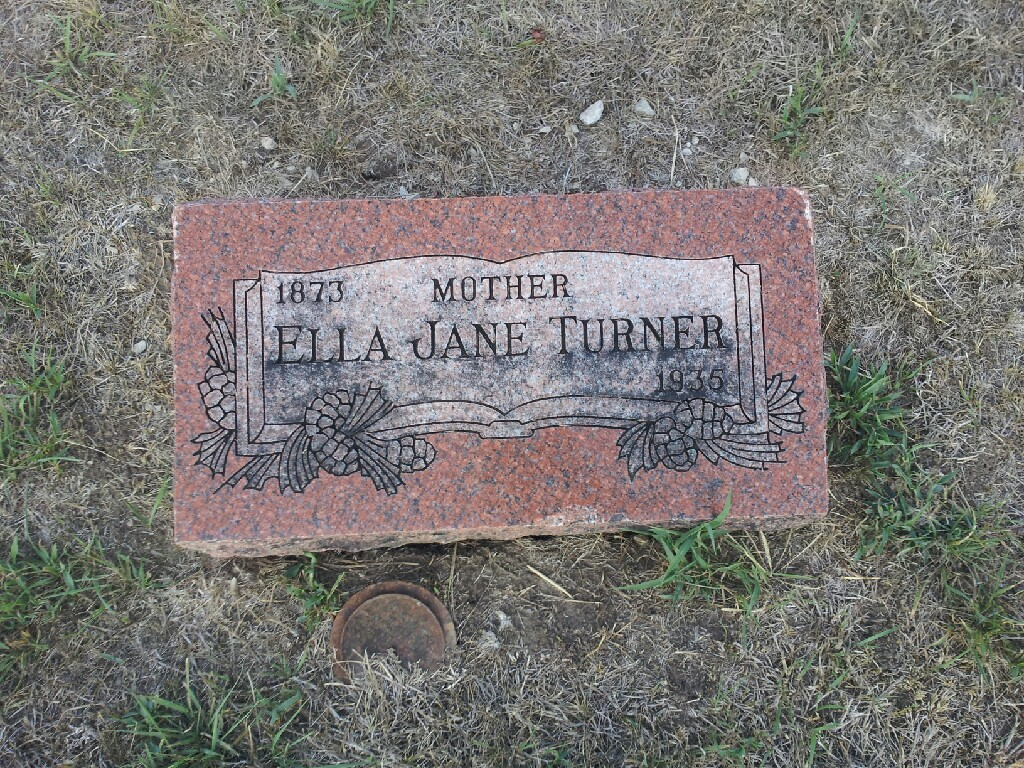flat: (176, 194, 827, 562)
